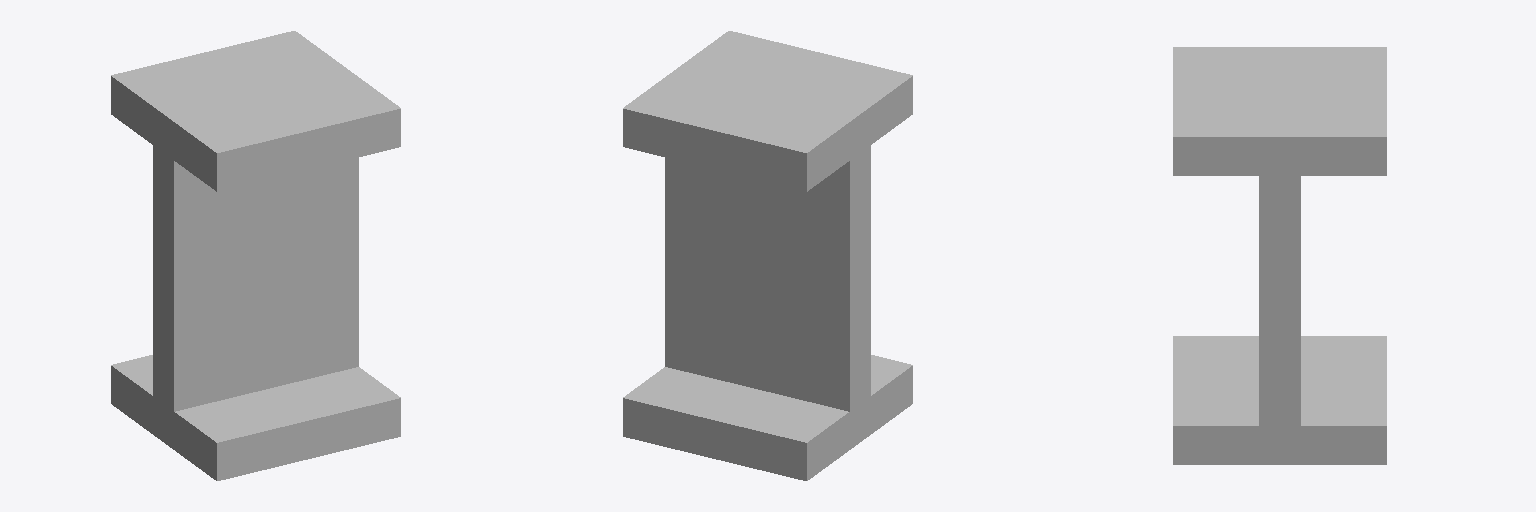
Rendered from railing.obj.
The picture shows the model from 3 angles: view 1: azimuth 30°, elevation 25°; view 2: azimuth 150°, elevation 25°; view 3: azimuth 270°, elevation 25°; orthographic projection.
Parts seen in each view (by area): view 1: Cube.002_Cube.003, Cube.001, Cube.000_Cube.002; view 2: Cube.002_Cube.003, Cube.001, Cube.000_Cube.002; view 3: Cube.001, Cube.000_Cube.002, Cube.002_Cube.003.
Boxes of the visible parts, <box> form: Cube.002_Cube.003: <box>153,146,358,411</box>; Cube.001: <box>111,31,400,191</box>; Cube.000_Cube.002: <box>111,355,400,480</box>; Cube.002_Cube.003: <box>665,146,870,411</box>; Cube.001: <box>623,31,912,191</box>; Cube.000_Cube.002: <box>623,355,912,480</box>; Cube.001: <box>1173,47,1386,175</box>; Cube.000_Cube.002: <box>1173,336,1386,464</box>; Cube.002_Cube.003: <box>1259,176,1300,425</box>.
Size of the model in its own units: 2 by 3.4 by 2.